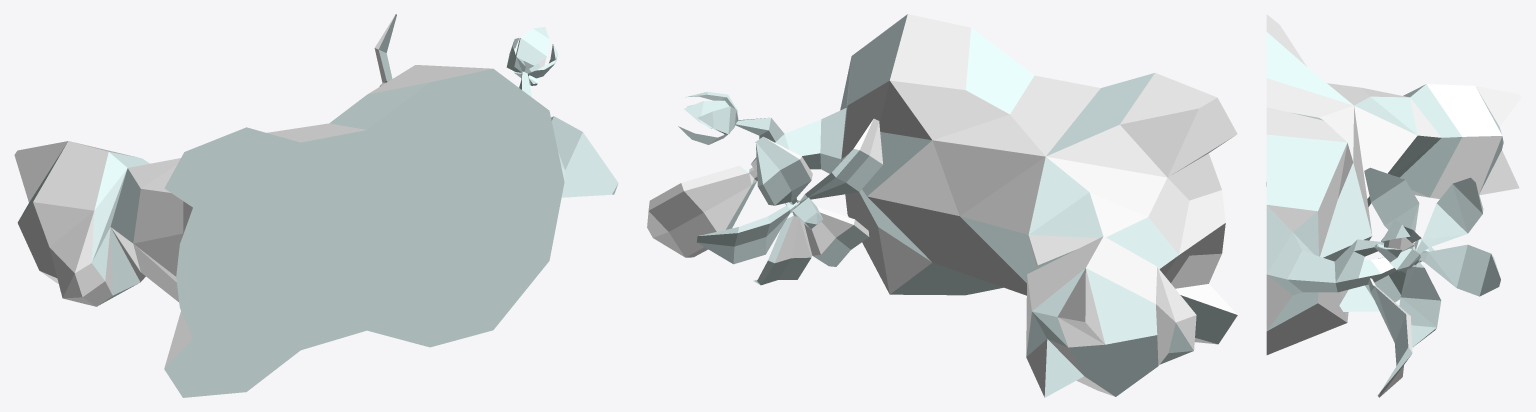
File: winter_cat.fbx
The picture shows the model from 3 angles, left to right: view 1: azimuth 30°, elevation 25°; view 2: azimuth 150°, elevation 25°; view 3: azimuth 270°, elevation 25°; orthographic projection. The views are drawn at different scales.
Visible parts, largest first — view 1: winter_cat; view 2: winter_cat; view 3: winter_cat.
Boxes of the visible parts, <box> form: winter_cat: <box>14,14,618,397</box>; winter_cat: <box>647,14,1237,397</box>; winter_cat: <box>1266,14,1521,397</box>.
Bounding box in the file's own units: 302 × 138 × 142.
